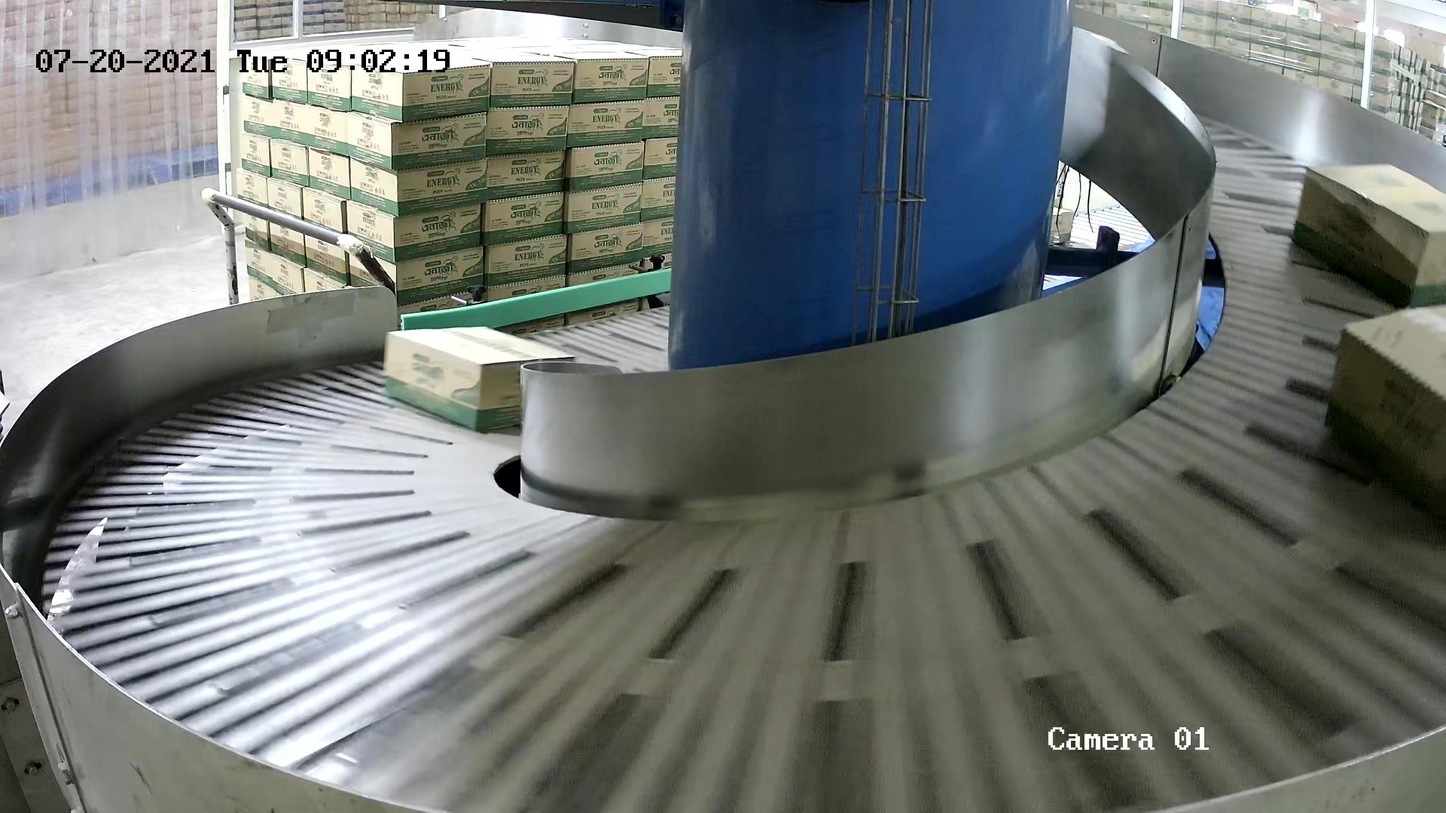Box: (1324, 297, 1446, 551), (1286, 160, 1446, 318), (384, 325, 578, 434)
